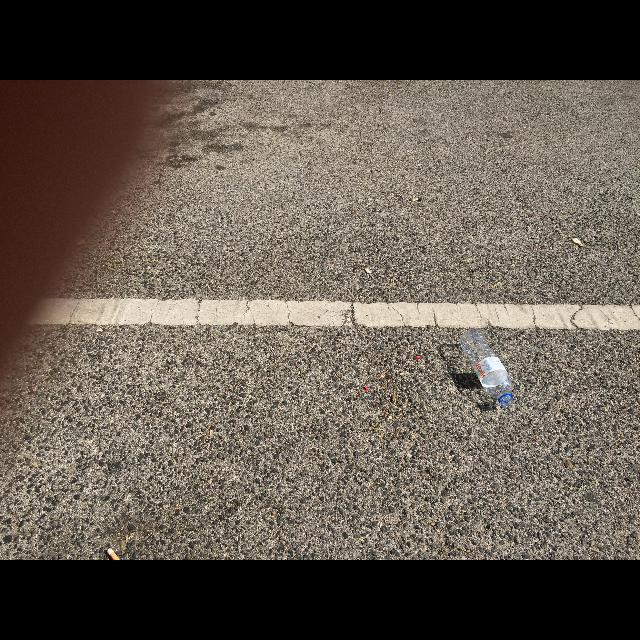Plastic: (459, 328, 513, 406)
